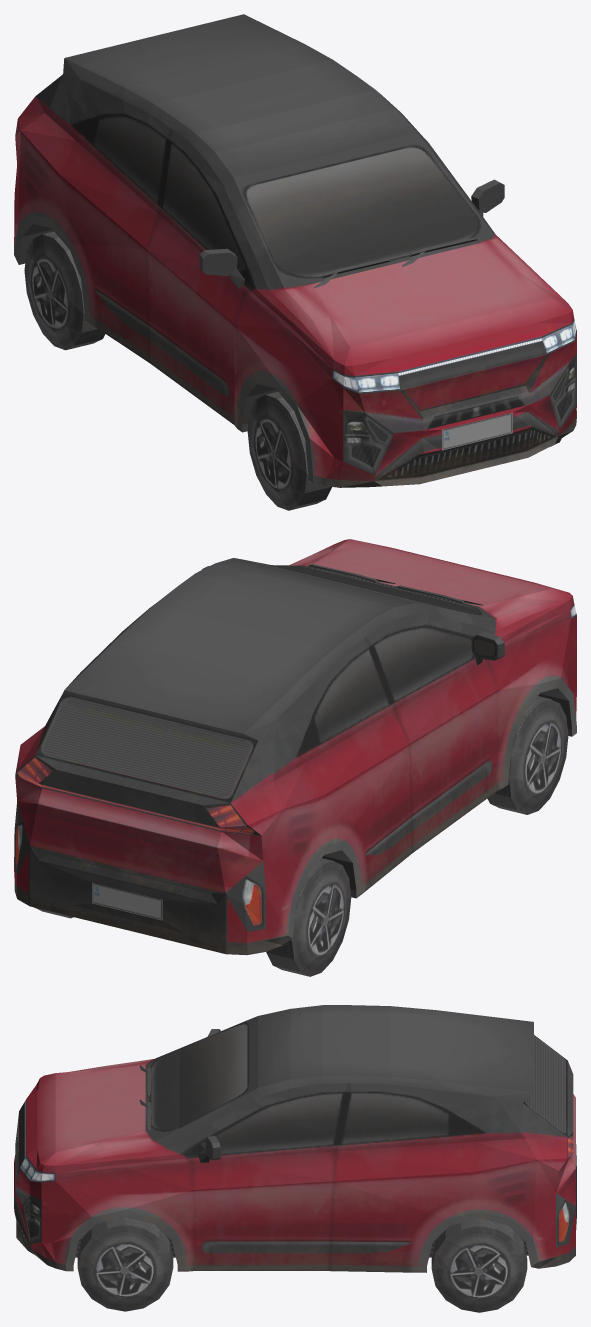
Rendered from nexon.glb.
The picture shows the model from 3 angles, top to bottom: view 1: azimuth 30°, elevation 25°; view 2: azimuth 150°, elevation 25°; view 3: azimuth 270°, elevation 25°; orthographic projection. The views are drawn at different scales.
Size of the model in its own units: 2.04 by 1.77 by 4.1.
Materials: 3 (3 with a texture image).
